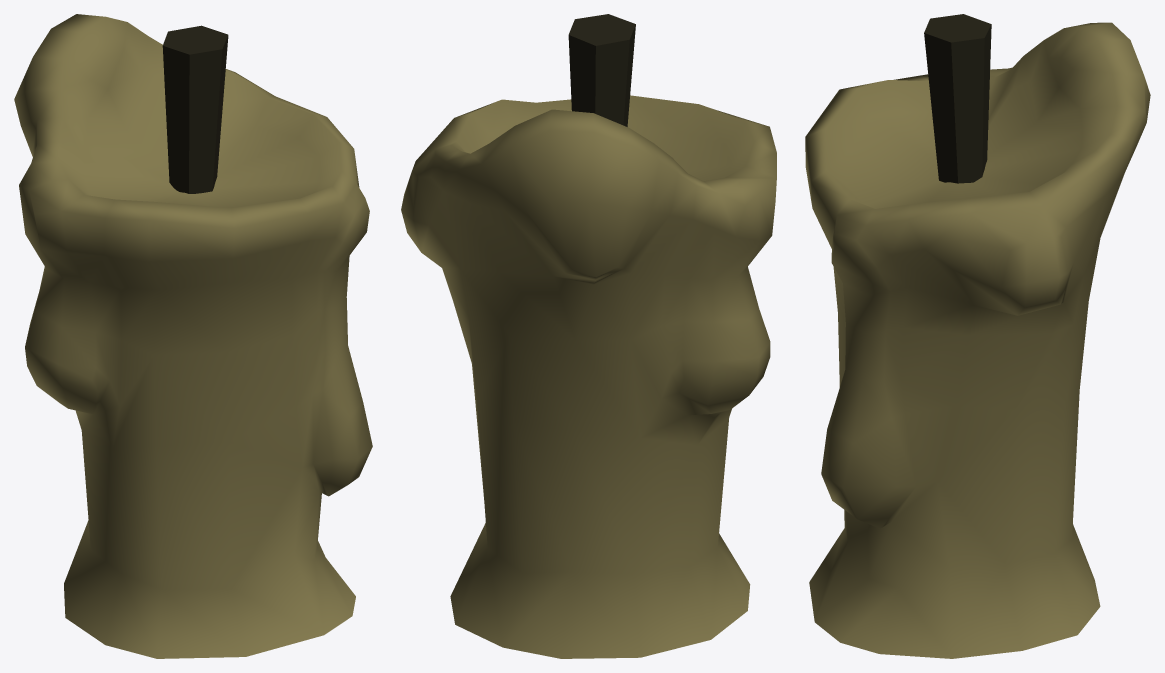
File: cstl_candle_01.fbx
3 views of the same model, side by side, from view 1: azimuth 30°, elevation 25°; view 2: azimuth 150°, elevation 25°; view 3: azimuth 270°, elevation 25° (orthographic). The views are drawn at different scales.
Visible parts, largest first — view 1: cstl_candle_01; view 2: cstl_candle_01; view 3: cstl_candle_01.
Boxes of the visible parts, <box> form: cstl_candle_01: <box>14,14,372,658</box>; cstl_candle_01: <box>401,14,776,658</box>; cstl_candle_01: <box>805,14,1150,658</box>.
Size of the model in its own units: 38.39 by 65.4 by 34.95.
